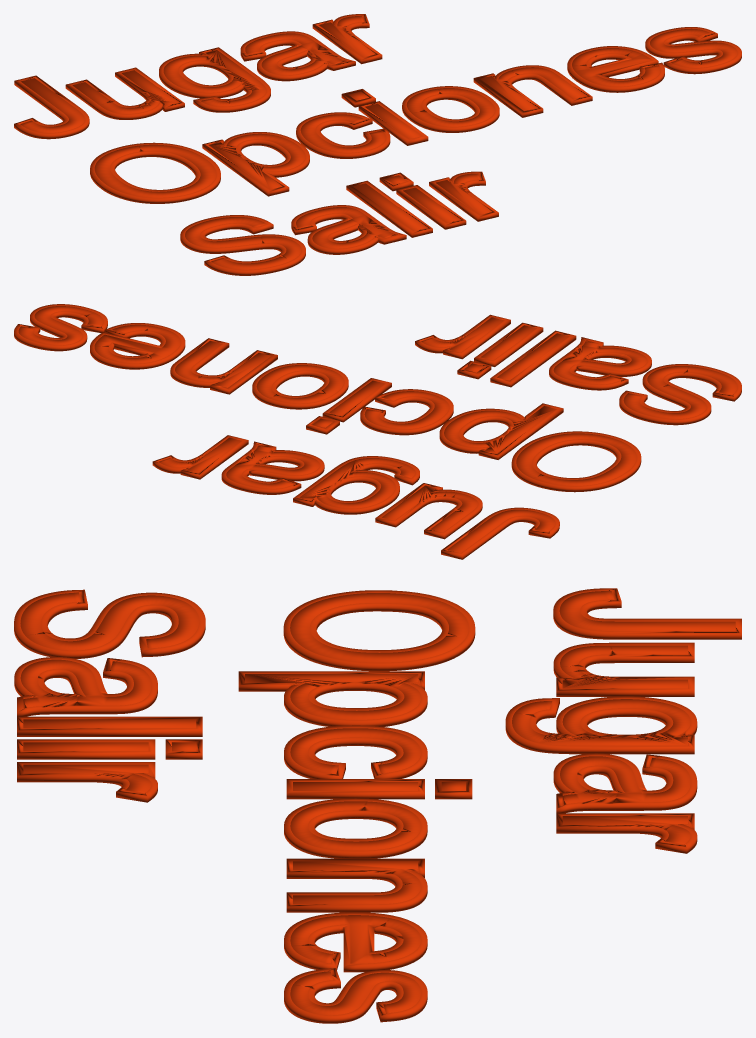
The model's file is menu.obj.
3 views of the same model, one above another, from view 1: azimuth 30°, elevation 25°; view 2: azimuth 150°, elevation 25°; view 3: azimuth 270°, elevation 25° (orthographic). The views are drawn at different scales.
Parts seen in each view (by area): view 1: TextPlus001; view 2: TextPlus001; view 3: TextPlus001.
Boxes of the visible parts, x1,y1,x2,y2 form: TextPlus001: (14,14,741,275); TextPlus001: (14,304,741,559); TextPlus001: (14,588,741,1023).
Bounding box in the file's own units: 94.29 × 0.6 × 67.5.
